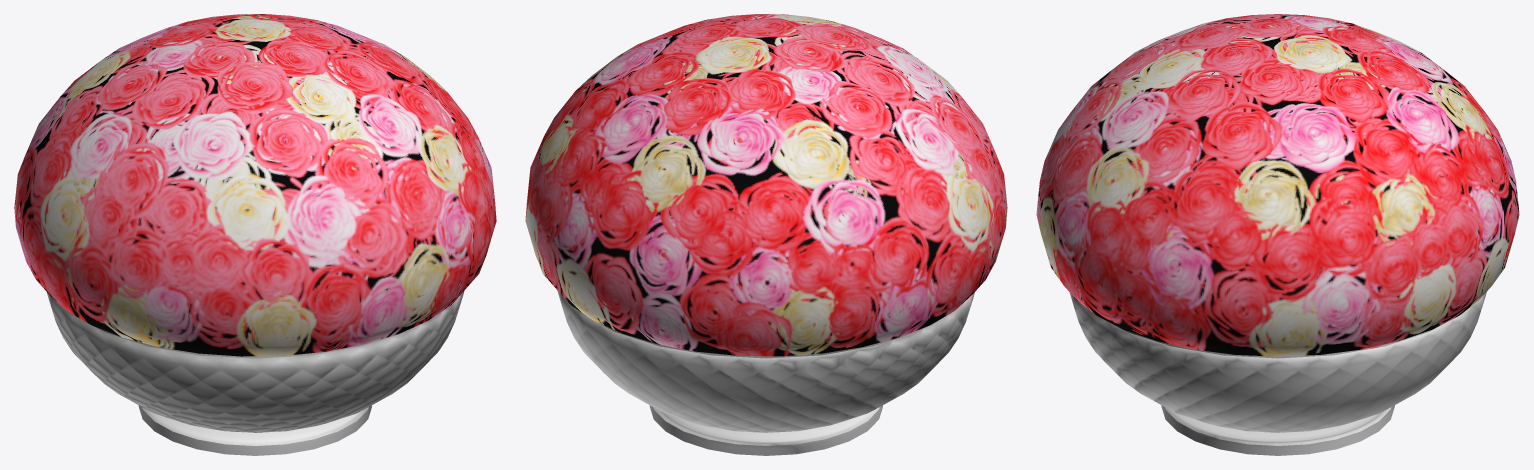
File: PotFlowers01.FBX
3 views of the same model, side by side, from view 1: azimuth 30°, elevation 25°; view 2: azimuth 150°, elevation 25°; view 3: azimuth 270°, elevation 25° (orthographic).
Parts seen in each view (by area): view 1: PotFlowers01; view 2: PotFlowers01; view 3: PotFlowers01.
Part boxes in pixels (left/top/right/bottom): PotFlowers01: left=14, top=14, right=496, bottom=455; PotFlowers01: left=525, top=14, right=1007, bottom=455; PotFlowers01: left=1036, top=14, right=1519, bottom=455.
Size of the model in its own units: 0.3391 by 0.2825 by 0.3391.
